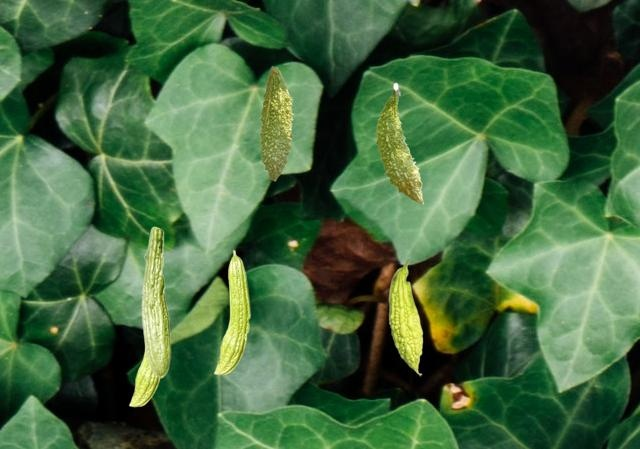ampalaya: (374, 82, 424, 204), (213, 249, 251, 375), (141, 226, 171, 378), (257, 65, 295, 181), (388, 257, 423, 376), (128, 347, 160, 407)
